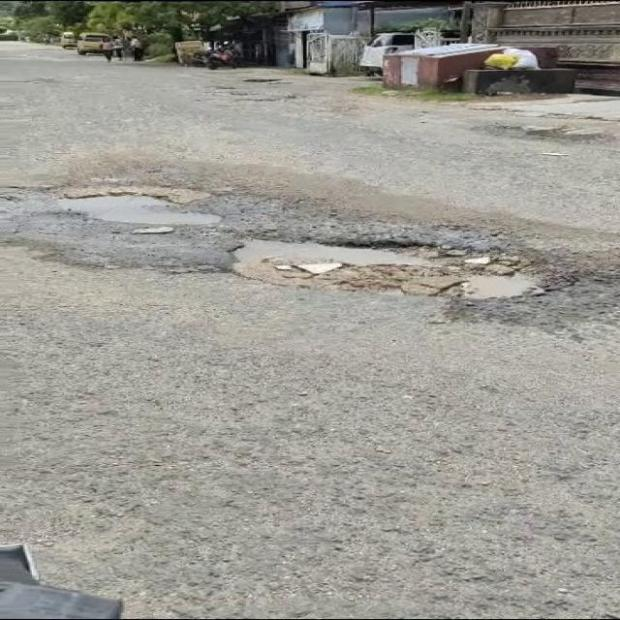lubang: (232, 221, 544, 299), (56, 185, 220, 225)
